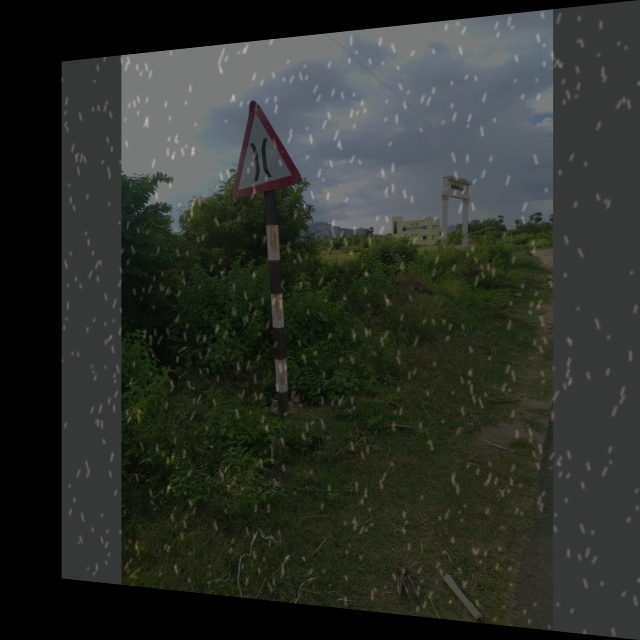Narrow_Bridge: (223, 91, 309, 196)
